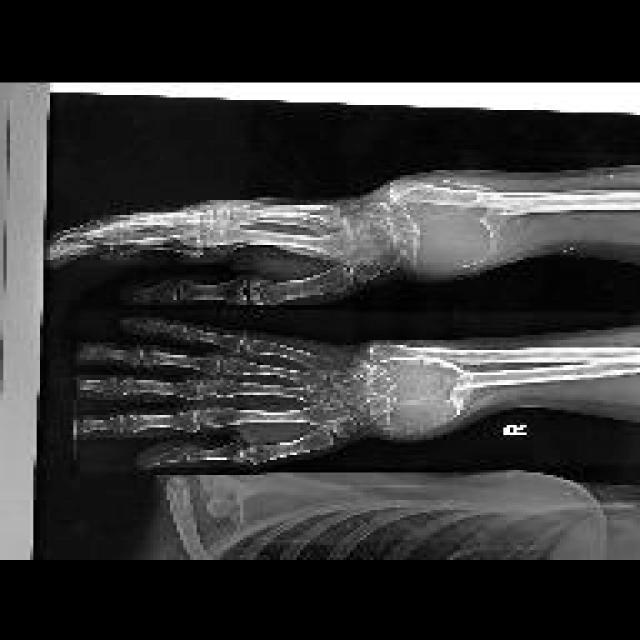bone-cancer: (397, 181, 497, 276), (383, 345, 475, 439)
